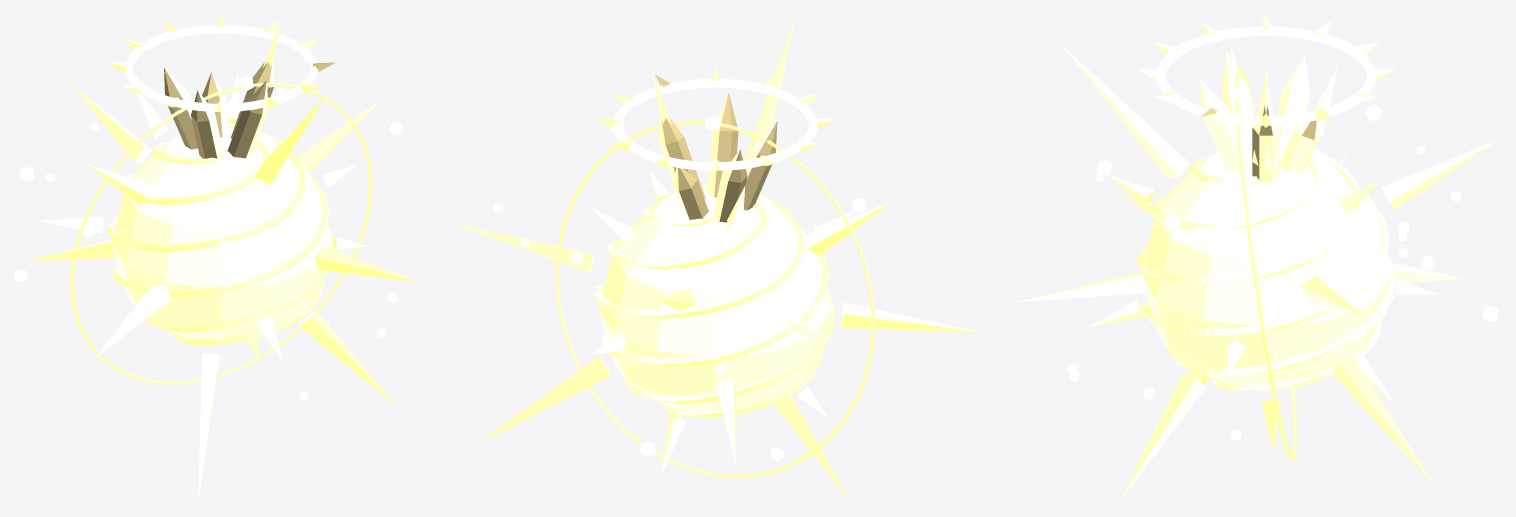
Rendered from fruto-luz.glb.
The picture shows the model from 3 angles, left to right: view 1: azimuth 30°, elevation 25°; view 2: azimuth 150°, elevation 25°; view 3: azimuth 270°, elevation 25°; orthographic projection. The views are drawn at different scales.
Visible parts, largest first — view 1: Fruit_Body; view 2: Fruit_Body; view 3: Fruit_Body.
Part boxes in pixels (box(x1,y1,x2,y2)): Fruit_Body: box(14, 14, 420, 500); Fruit_Body: box(451, 15, 984, 501); Fruit_Body: box(1015, 14, 1500, 501).
Bounding box in the file's own units: 2.08 × 2.07 × 1.94.
